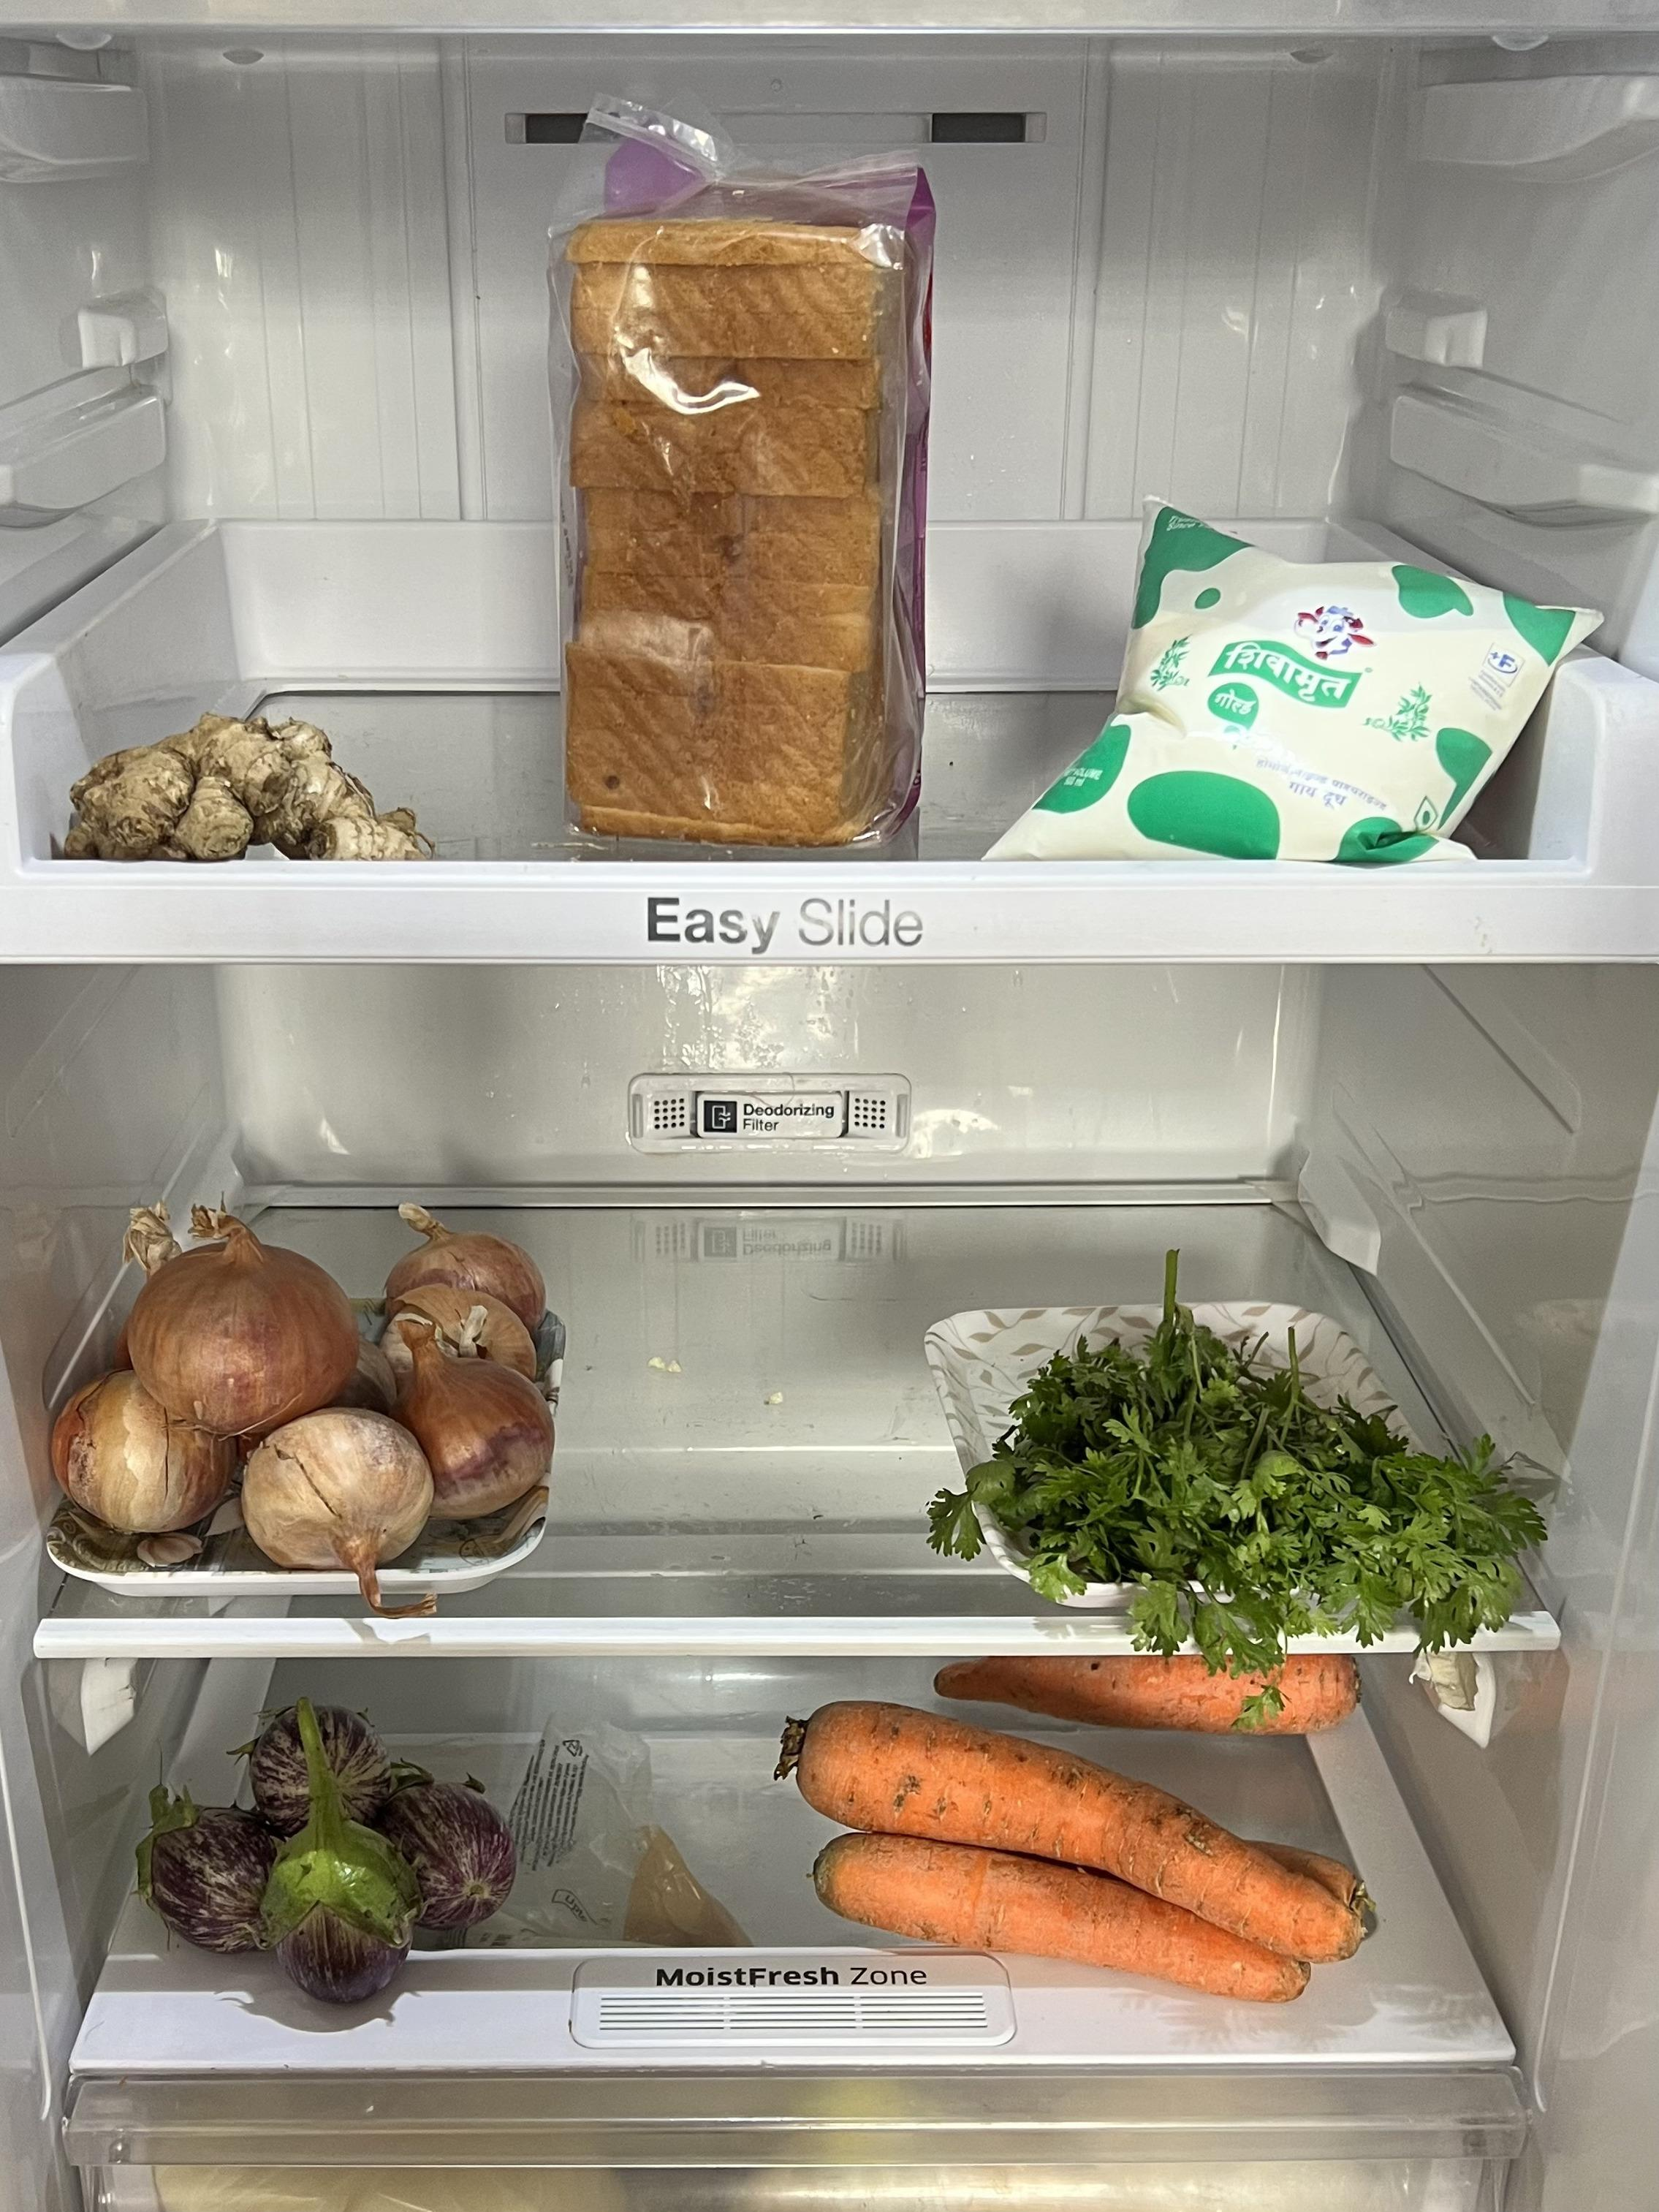bread: (525, 122, 948, 847)
bringal: (134, 1691, 521, 2008)
carrots: (775, 1661, 1385, 1994)
coriander: (932, 1328, 1542, 1644)
ginger: (52, 694, 436, 870)
milk: (999, 502, 1596, 872)
onion: (52, 1194, 561, 1572)
